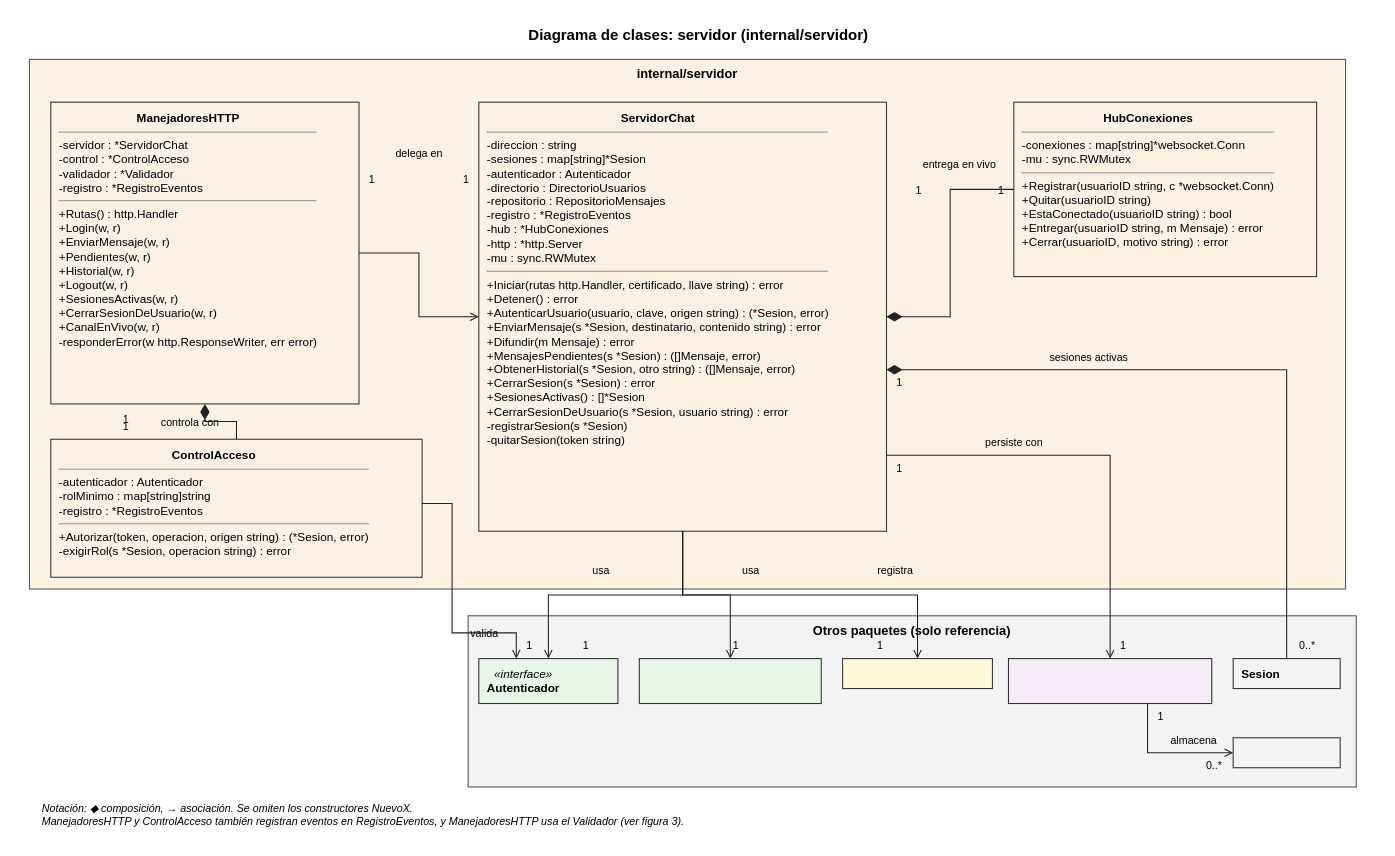
The diagram is 1395 pixels wide and 856 high, and some of its shapes have lost their labels. Here are the shapes that lost their labels. From the top down, the centre of each, then its label:
At pixel 729 681: "«interface» DirectorioUsuarios".
At pixel 917 673: "RegistroEventos".
At pixel 1109 681: "«interface» RepositorioMensajes".
At pixel 1286 752: "Mensaje".
